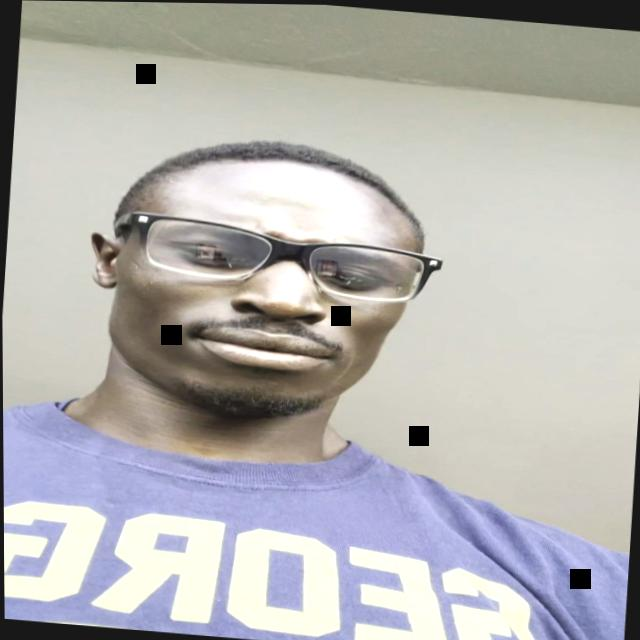NO-Mask: (83, 137, 441, 434)
